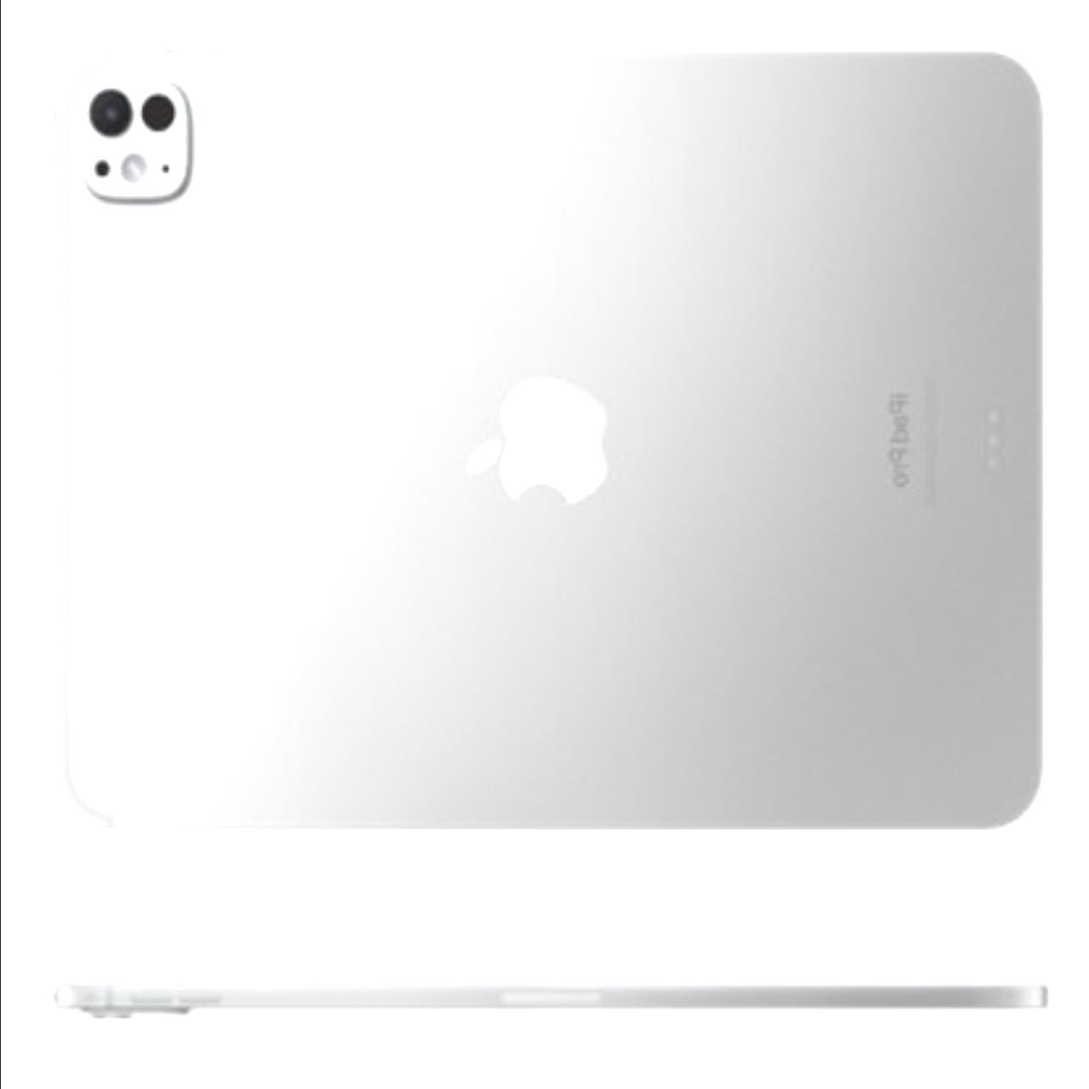Tablet_PC: (40, 37, 1063, 851)
